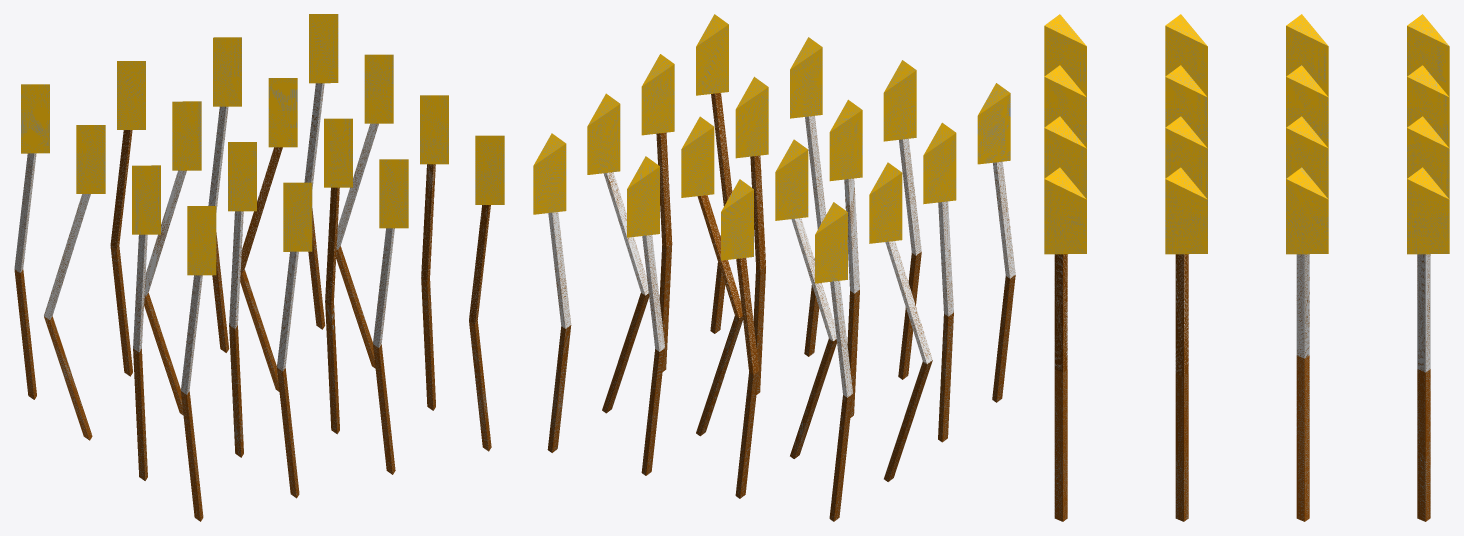
File: corn.dae
3 renders of one model, left to right at view 1: azimuth 30°, elevation 25°; view 2: azimuth 150°, elevation 25°; view 3: azimuth 270°, elevation 25°, orthographic. The views are drawn at different scales.
Visible parts, largest first — view 1: SketchUp (×32); view 2: SketchUp (×32); view 3: SketchUp (×20).
Part boxes in pixels (x1,y1,x2,y2): SketchUp (×32): (14,14,504,521); SketchUp (×32): (533,14,1015,521); SketchUp (×20): (1044,14,1449,521).
Bounding box in the file's own units: 86.88 × 82.5 × 77.56.
